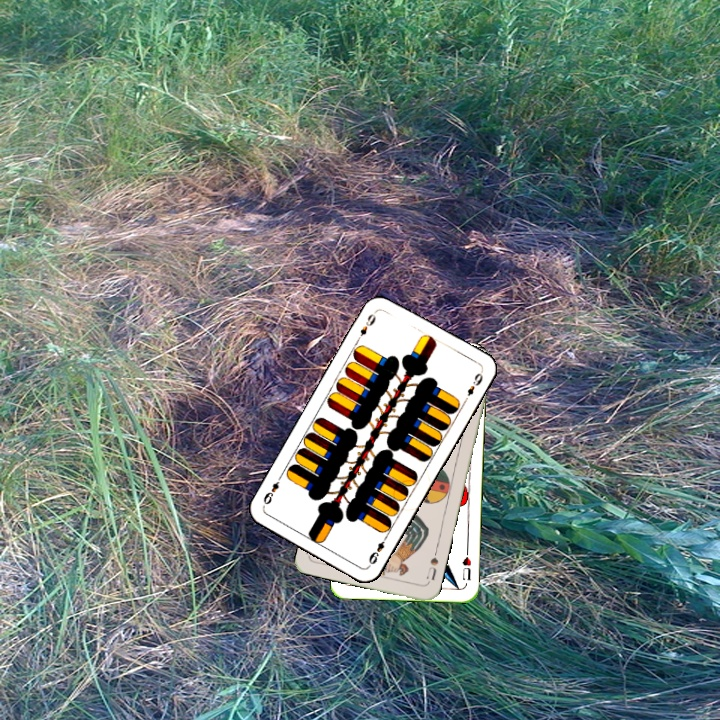E9: (364, 531, 390, 568), (353, 307, 378, 344)
HU: (459, 546, 474, 583)
SU: (422, 546, 441, 583)
